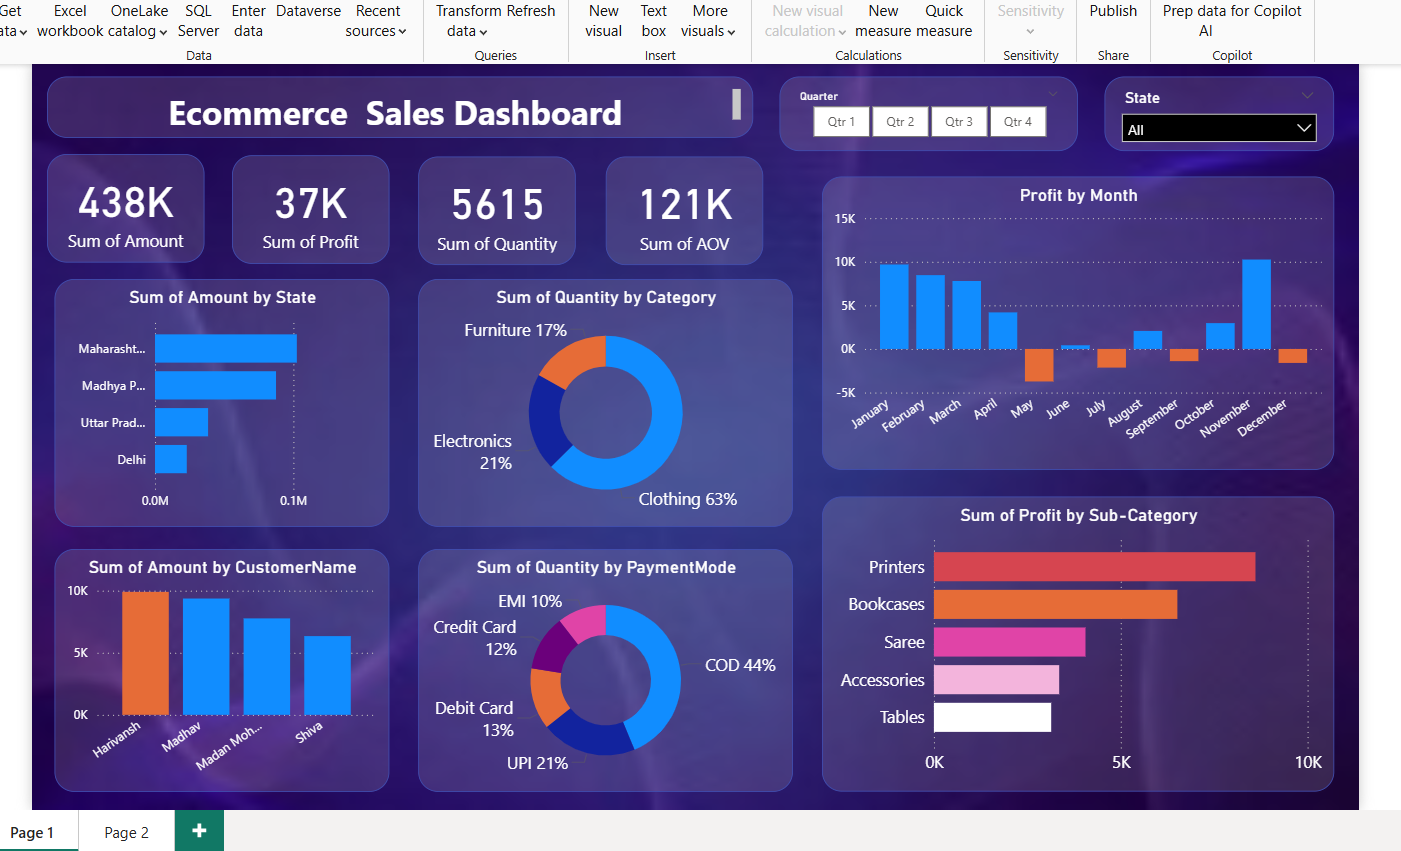

The page's visual inventory and layout, read from the dashboard file:
{"tool":"powerbi","page":{"name":"Page 1","canvas":[1280,720],"ordinal":0},"visuals":[{"type":"textbox","box":[14.5,12.1,681.6,59.1],"z":0},{"type":"columnChart","title":" Profit by Month","fields":{"Category":["Orders.Order Date.Variation.Date Hierarchy.Month"],"Y":["Details.Profit"]},"box":[762.5,108.6,494.6,283.5],"z":1000},{"type":"barChart","title":"Sum of Amount by State","fields":{"Category":["Orders.State"],"Y":["Details.Amount"]},"box":[21.7,207.5,323.3,238.9],"z":2000},{"type":"donutChart","fields":{"Category":["Details.Category"],"Y":["Details.Quantity"]},"box":[372.8,207.5,361.9,238.9],"z":3000},{"type":"donutChart","fields":{"Y":["Details.Quantity"],"Category":["Details.PaymentMode"]},"box":[372.8,468.1,361.9,234],"z":4000},{"type":"card","fields":{"Values":["Details.Amount"]},"box":[14.5,86.9,152,105],"z":5000},{"type":"card","fields":{"Values":["Details.Quantity"]},"box":[372.8,89.3,152,105],"z":6000},{"type":"card","fields":{"Values":["Details.Profit"]},"box":[193,88.1,152,105],"z":7000},{"type":"card","fields":{"Values":["Details.AOV"]},"box":[553.8,89.3,152,105],"z":8000},{"type":"barChart","title":"Sum of Profit by Sub-Category","fields":{"Y":["Details.Profit"],"Category":["Details.Sub-Category"]},"box":[762.5,417.4,494.6,284.7],"z":9000},{"type":"columnChart","fields":{"Category":["Orders.CustomerName"],"Y":["Details.Amount"]},"box":[21.7,468.1,323.3,234],"z":10000},{"type":"slicer","fields":{"Values":["Orders.Order Date.Variation.Date Hierarchy.Quarter"]},"box":[721.5,12.1,288.3,72.4],"z":11000},{"type":"slicer","fields":{"Values":["Orders.State"]},"box":[1035.1,12.1,222,72.4],"z":12000}]}

Visuals, with their boxes in screenshot pixels (x1, y1, x2, y2):
textbox: crop(16, 57, 751, 121)
" Profit by Month" columnChart: crop(823, 161, 1357, 467)
"Sum of Amount by State" barChart: crop(23, 268, 372, 526)
donutChart - Details.Category x Details.Quantity: crop(402, 268, 793, 526)
donutChart - Details.Quantity x Details.PaymentMode: crop(402, 549, 793, 802)
card - Details.Amount: crop(16, 138, 180, 251)
card - Details.Quantity: crop(402, 140, 566, 254)
card - Details.Profit: crop(208, 139, 372, 252)
card - Details.AOV: crop(598, 140, 762, 254)
"Sum of Profit by Sub-Category" barChart: crop(823, 494, 1357, 802)
columnChart - Orders.CustomerName x Details.Amount: crop(23, 549, 372, 802)
slicer - Orders.Order Date.Variation.Date Hierarchy.Quarter: crop(779, 57, 1090, 135)
slicer - Orders.State: crop(1117, 57, 1357, 135)
